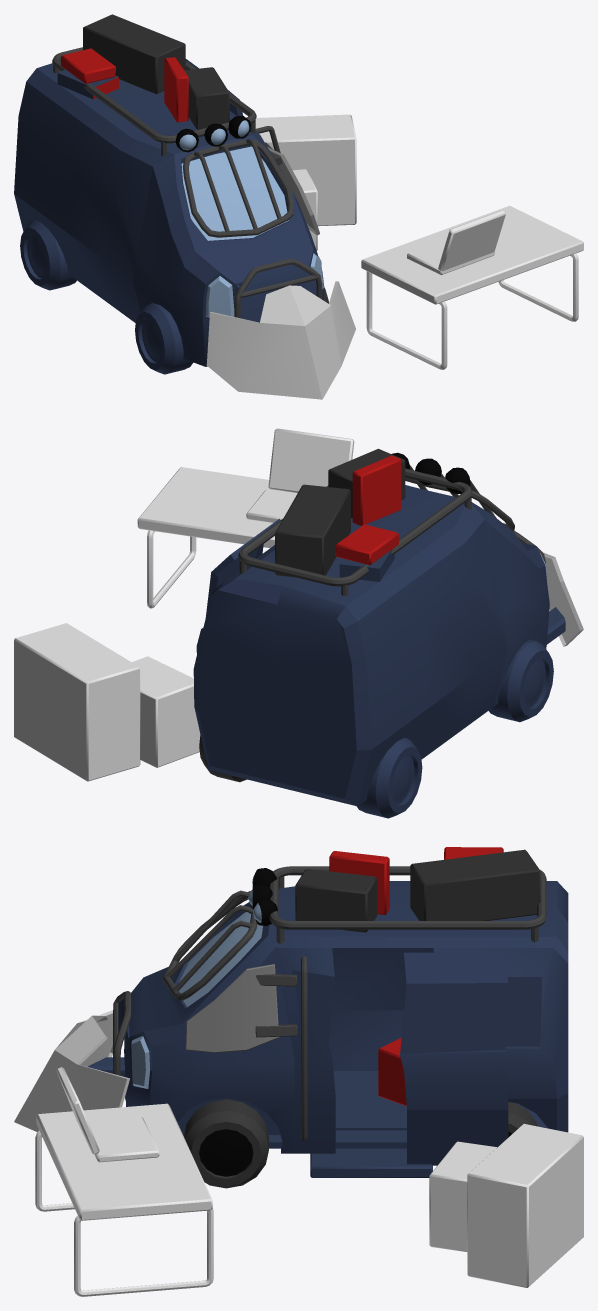
3 views of the same model, one above another, from view 1: azimuth 30°, elevation 25°; view 2: azimuth 150°, elevation 25°; view 3: azimuth 270°, elevation 25° (orthographic). The views are drawn at different scales.
Parts seen in each view (by area): view 1: Null_2, Null_2_2, Null_2_4, Null_2_1, Null_2_3; view 2: Null_2, Null_2_4, Null_2_2, Null_2_3, Null_2_1; view 3: Null_2, Null_2_4, Null_2_2, Null_2_3, Null_2_1.
Part boxes in pixels (x1,y1,x2,y2): Null_2: [14, 14, 355, 399]; Null_2_2: [361, 205, 583, 369]; Null_2_4: [255, 114, 356, 226]; Null_2_1: [407, 210, 505, 275]; Null_2_3: [292, 169, 317, 250]; Null_2: [193, 448, 583, 818]; Null_2_4: [14, 623, 140, 781]; Null_2_2: [137, 467, 297, 608]; Null_2_3: [132, 656, 200, 767]; Null_2_1: [246, 428, 354, 522]; Null_2: [14, 847, 568, 1188]; Null_2_4: [467, 1124, 583, 1287]; Null_2_2: [35, 1103, 213, 1296]; Null_2_3: [429, 1141, 496, 1251]; Null_2_1: [56, 1067, 159, 1162].
Size of the model in its own units: 273 by 173 by 304.
